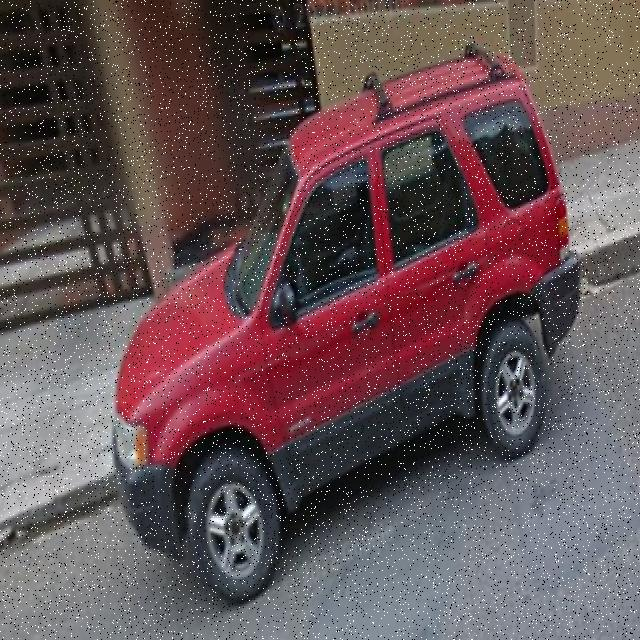cars: (99, 78, 575, 597)
